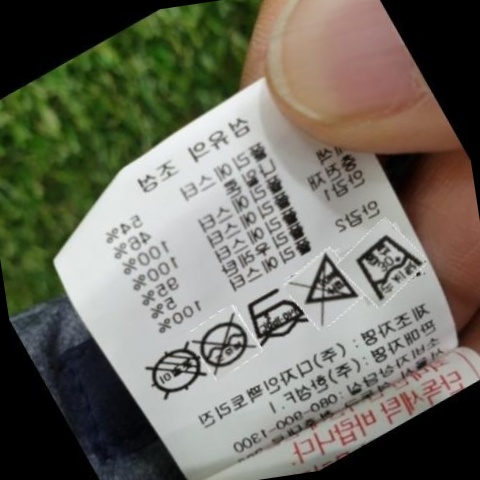DN_dry_clean: (192, 315, 254, 370)
hand_wash: (348, 225, 423, 304)
iron_high: (237, 282, 307, 342)
line_dry_in_shade: (142, 347, 205, 395)
non_chlorine_bleach: (292, 254, 357, 313)
